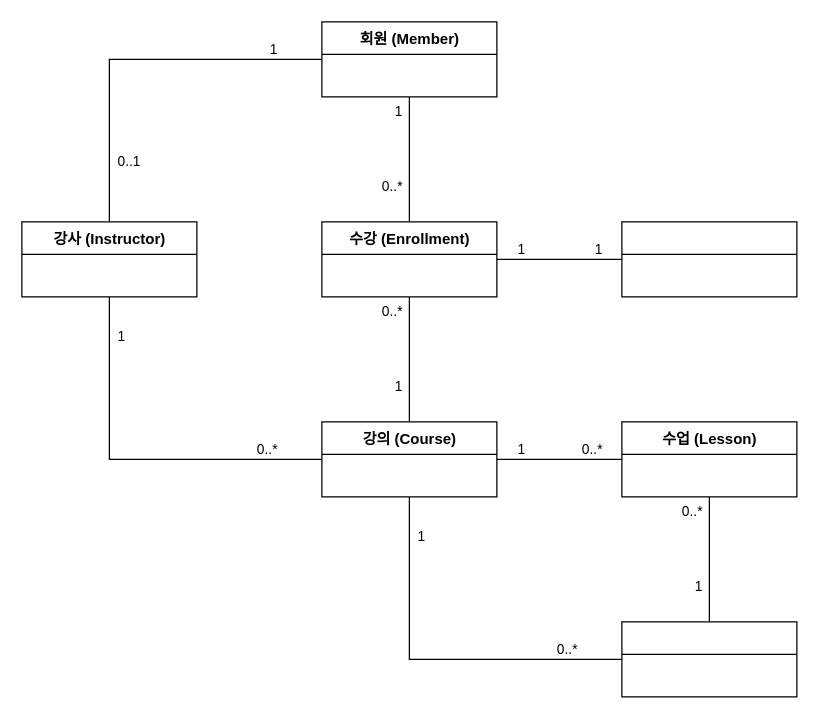
Some shapes in this 819 by 719 pixel diagram are drawn without their labels. The box of each missing label's shape, as (x1, y1, x2, y2) in pixels:
섹션 (Section): (621, 621, 797, 697)
진도 (Progress): (621, 221, 797, 297)
